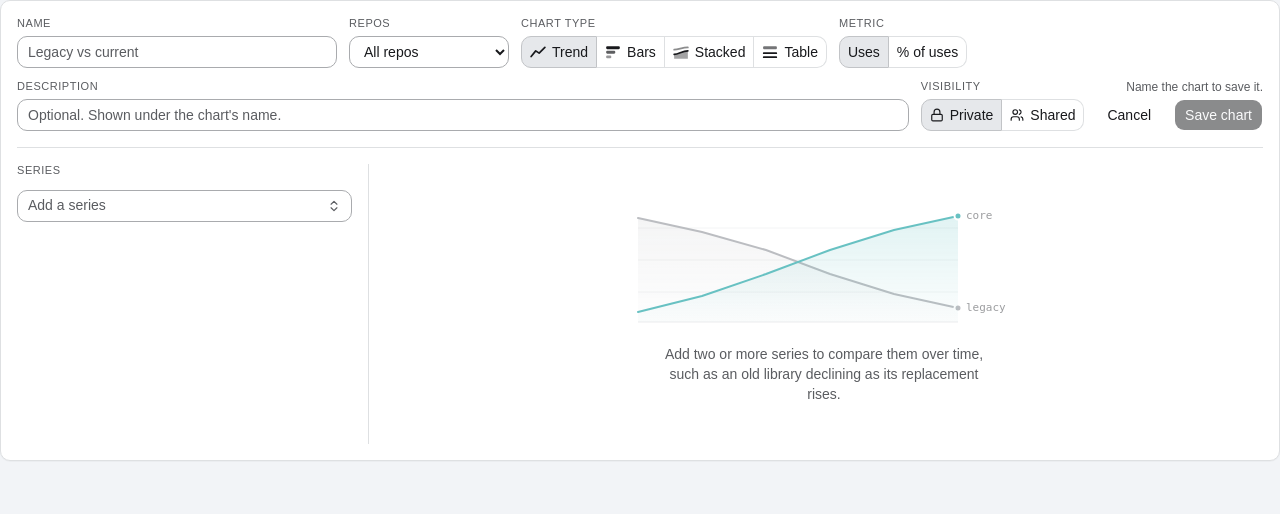
Scenario: chart builder read availability › makes an unexpected picker failure visible and retryable
Select "repo-a" in the dropdown labelled "Repos" at (429, 52), box x1=349 y1=36 x2=509 y2=68
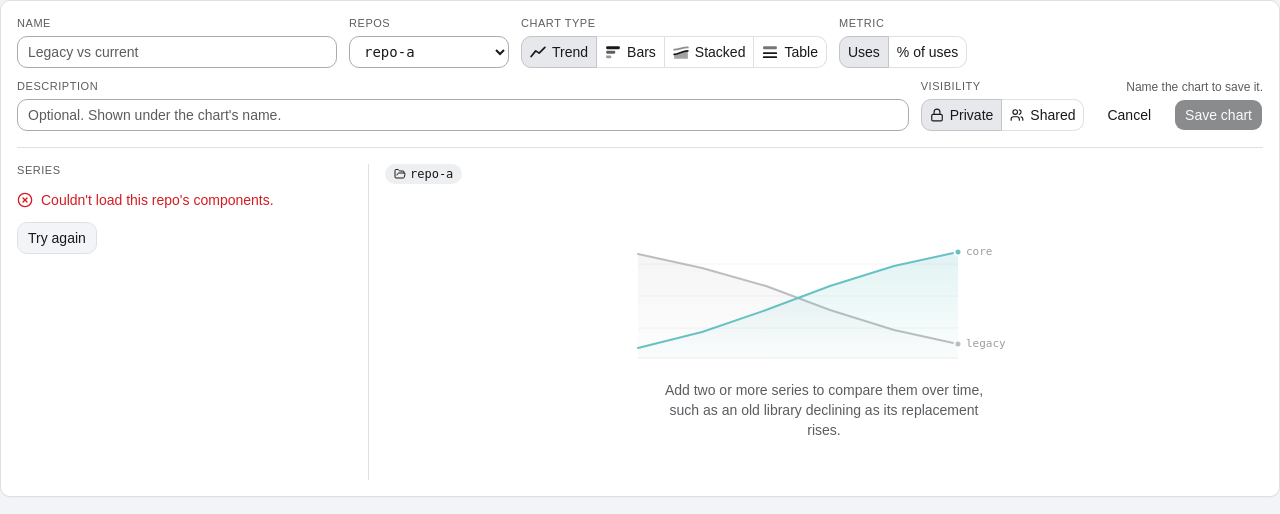
Expected: the message shows "Couldn't load this repo's components.", x1=41 y1=192 x2=274 y2=208
Click the button "Try again".
click(57, 238)  # box x1=17 y1=222 x2=97 y2=254
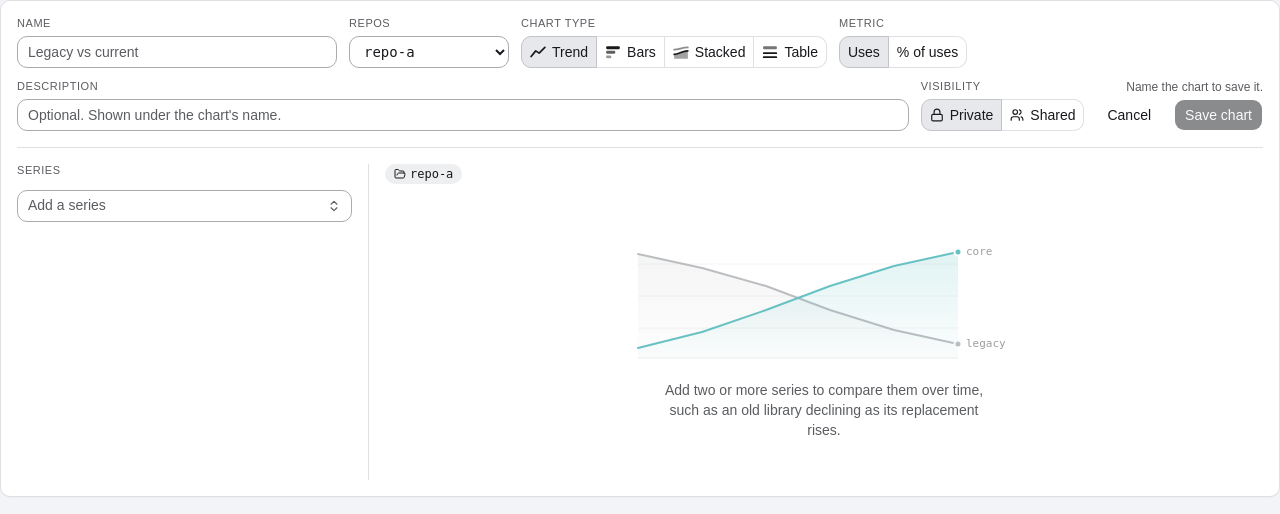
Expected: the dropdown labelled "Add a series" is shown, x1=28 y1=191 x2=321 y2=221
Expected: the message "Couldn't load this repo's components. Try again" is gone
